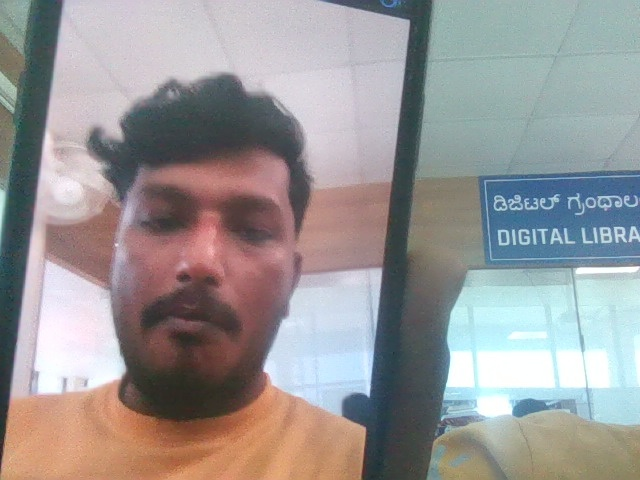fake: (82, 62, 330, 413)
